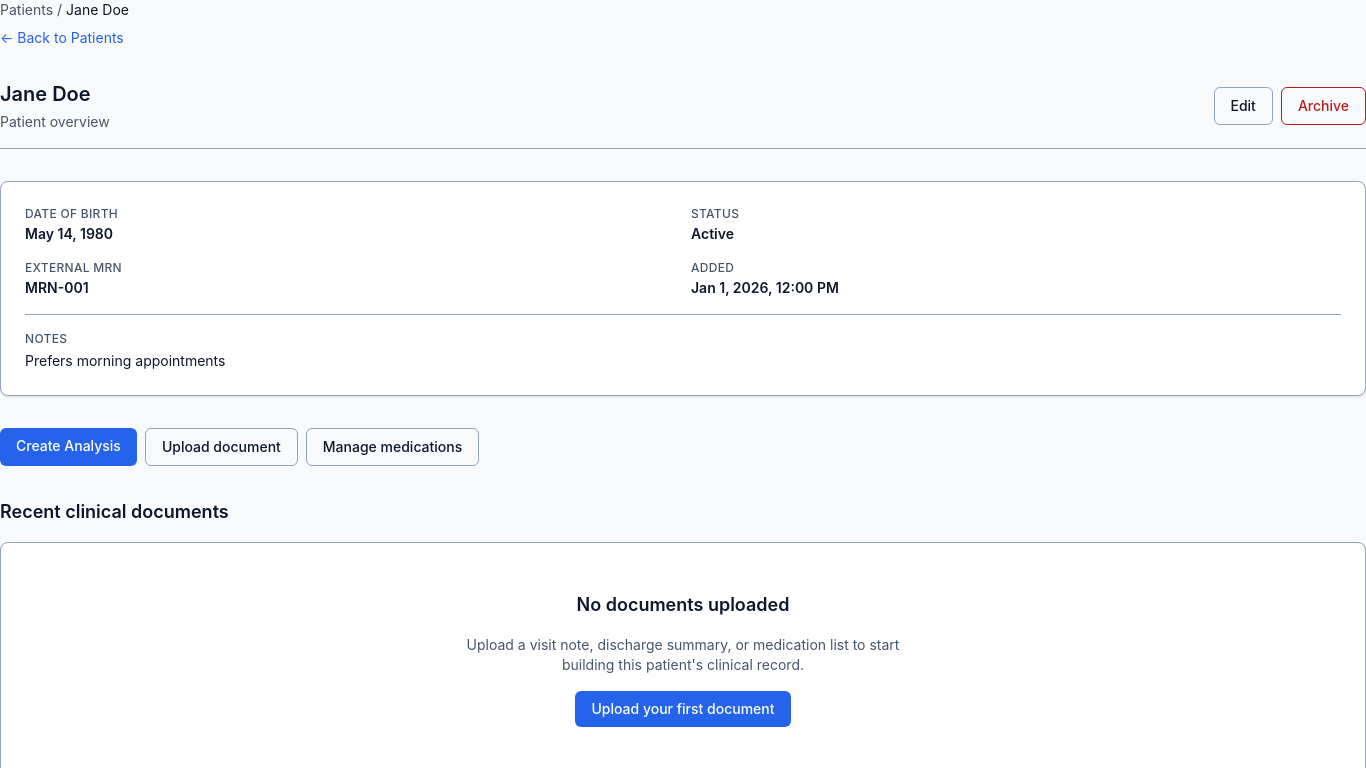
Test case: PatientOverviewPage › shows an error in the dialog and does not navigate when archiving fails
The width and height of the screenshot is (1366, 768).
Click the button "Archive".
click(1323, 106)  # box top-left (1281, 87), bottom-right (1365, 125)
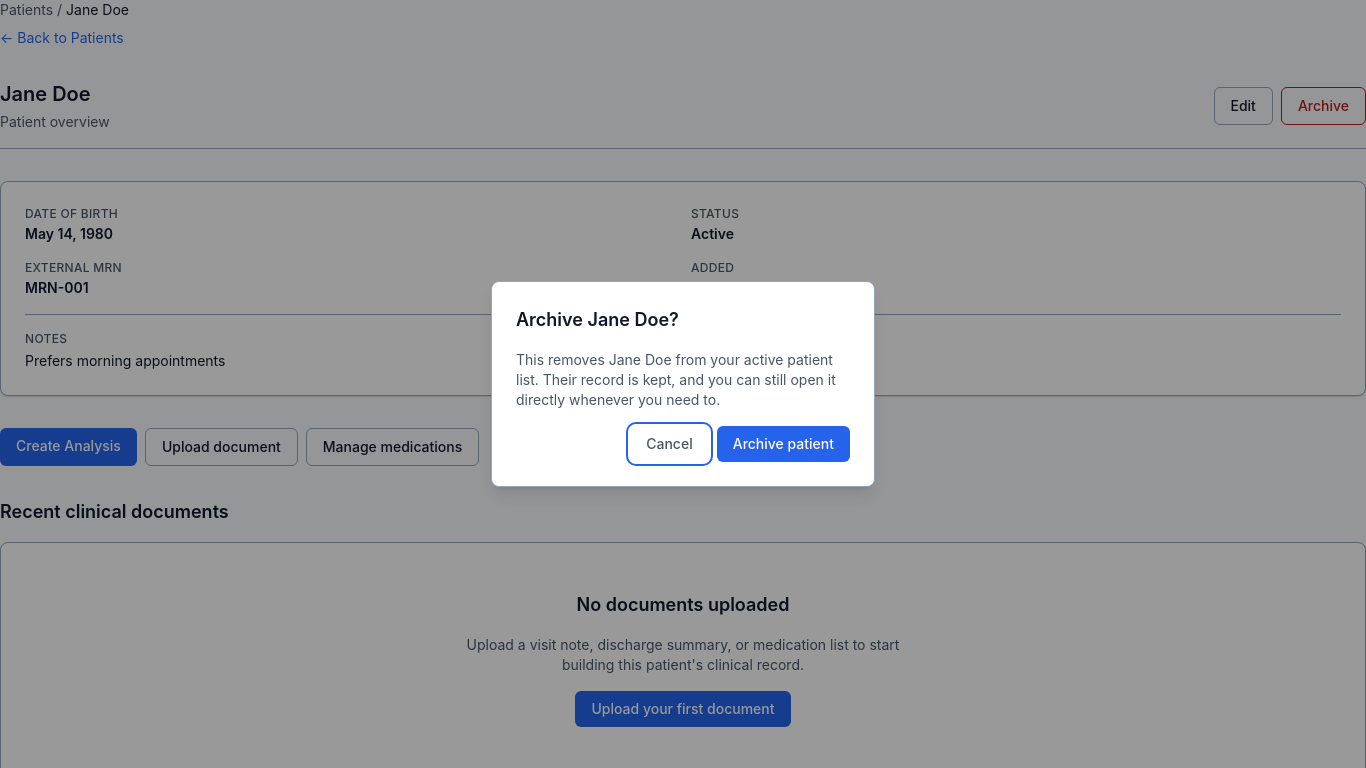
Click the button "Archive patient".
click(783, 444)  # box top-left (717, 426), bottom-right (850, 462)
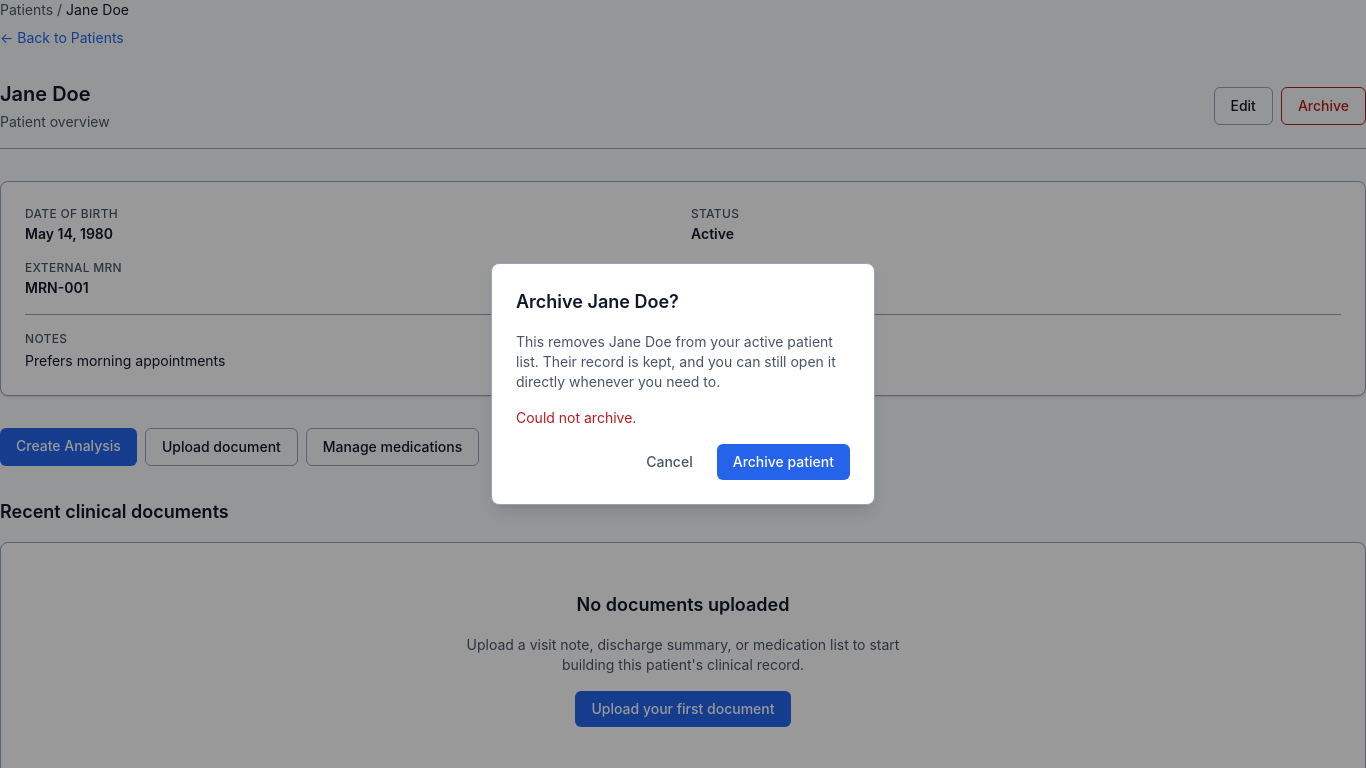
Expected: the message reads "Could not archive.", top-left (516, 409), bottom-right (636, 426)
